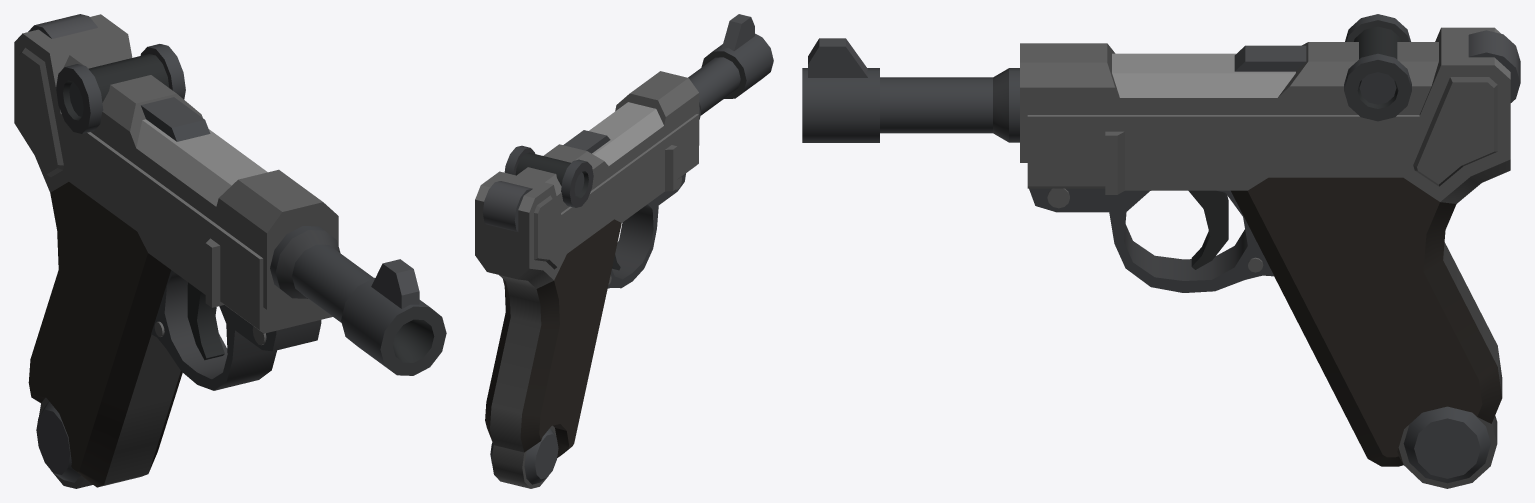
File: Weapon_PISTOL_Enemy_01_G01_out.fbx
The picture shows the model from 3 angles, left to right: view 1: azimuth 30°, elevation 25°; view 2: azimuth 150°, elevation 25°; view 3: azimuth 270°, elevation 25°; orthographic projection. The views are drawn at different scales.
Parts seen in each view (by area): view 1: Weapon_PISTOL_Enemy_01_G01; view 2: Weapon_PISTOL_Enemy_01_G01; view 3: Weapon_PISTOL_Enemy_01_G01.
Part boxes in pixels (x1,y1,x2,y2): Weapon_PISTOL_Enemy_01_G01: [14, 14, 446, 488]; Weapon_PISTOL_Enemy_01_G01: [475, 14, 773, 488]; Weapon_PISTOL_Enemy_01_G01: [802, 14, 1520, 488].
Size of the model in its own units: 0.909 by 4.09 by 6.03.
